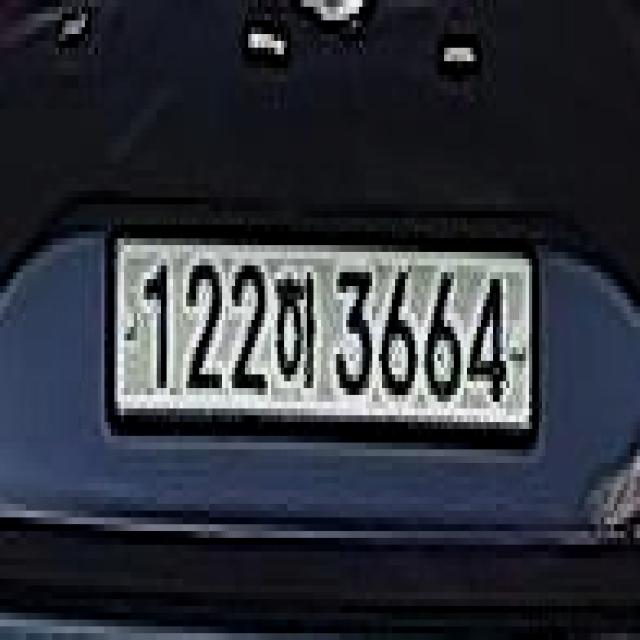illegal_plate: (101, 209, 538, 465)
